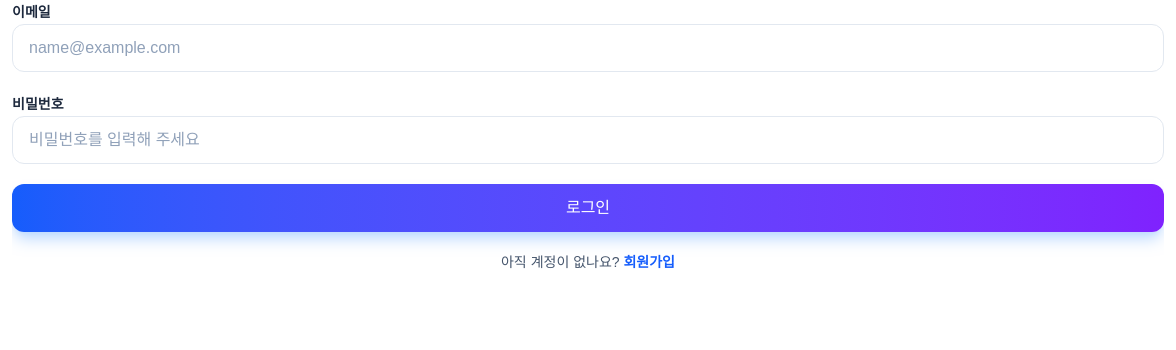
Test case: LoginForm › shows the backend login error
Expected: the button "로그인" is enabled, x1=12 y1=184 x2=1164 y2=232
Type "user@example.com" into the field labelled "이메일".
click(588, 48); type("user@example.com")  # box x1=12 y1=24 x2=1164 y2=72
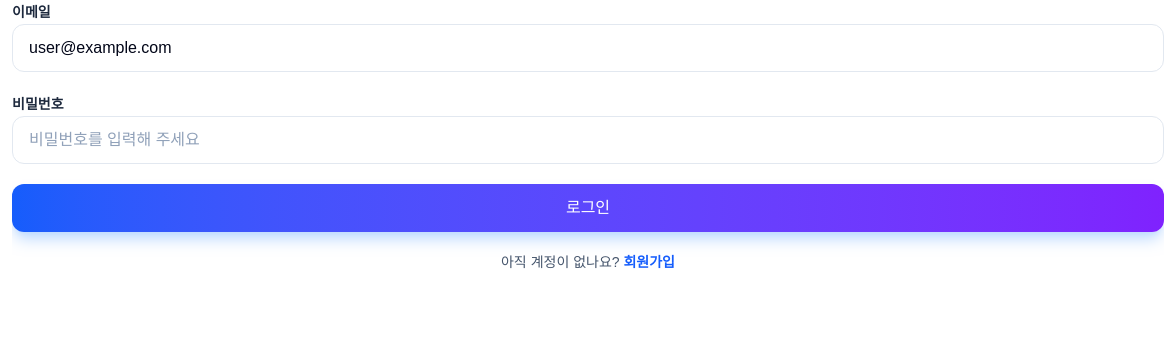
Type "wrong-password" into the password field labelled "비밀번호".
click(588, 140); type("wrong-password")  # box x1=12 y1=116 x2=1164 y2=164
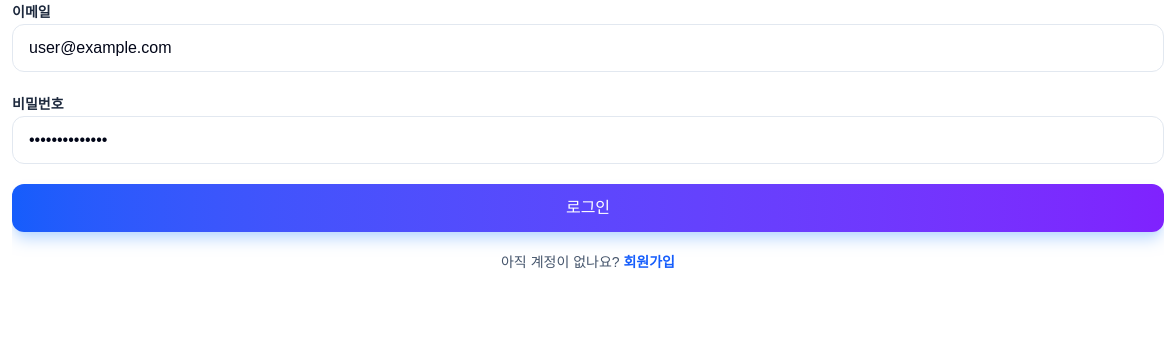
Click the button "로그인".
click(588, 208)  # box x1=12 y1=184 x2=1164 y2=232
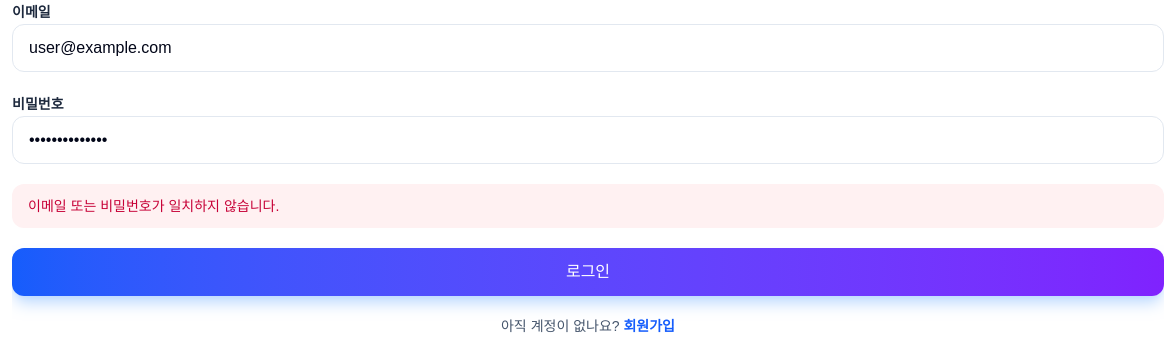
Expected: the message "이메일 또는 비밀번호가 일치하지 않습니다." is shown, x1=12 y1=184 x2=1164 y2=228
